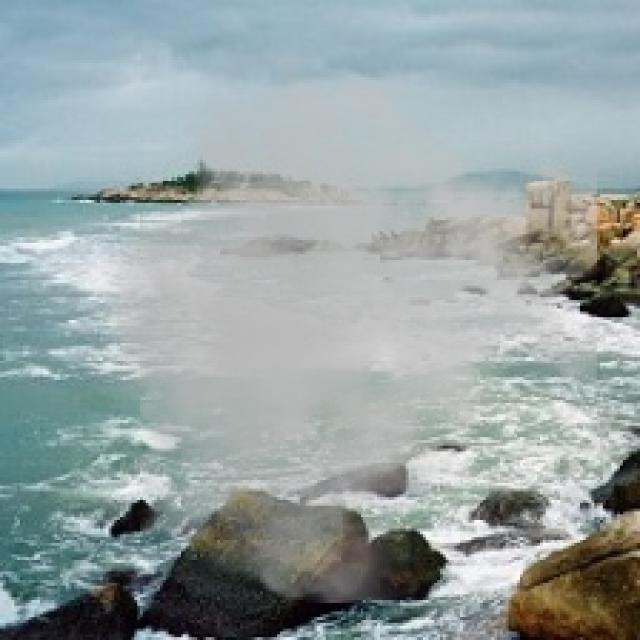smoke: (60, 51, 597, 606)
